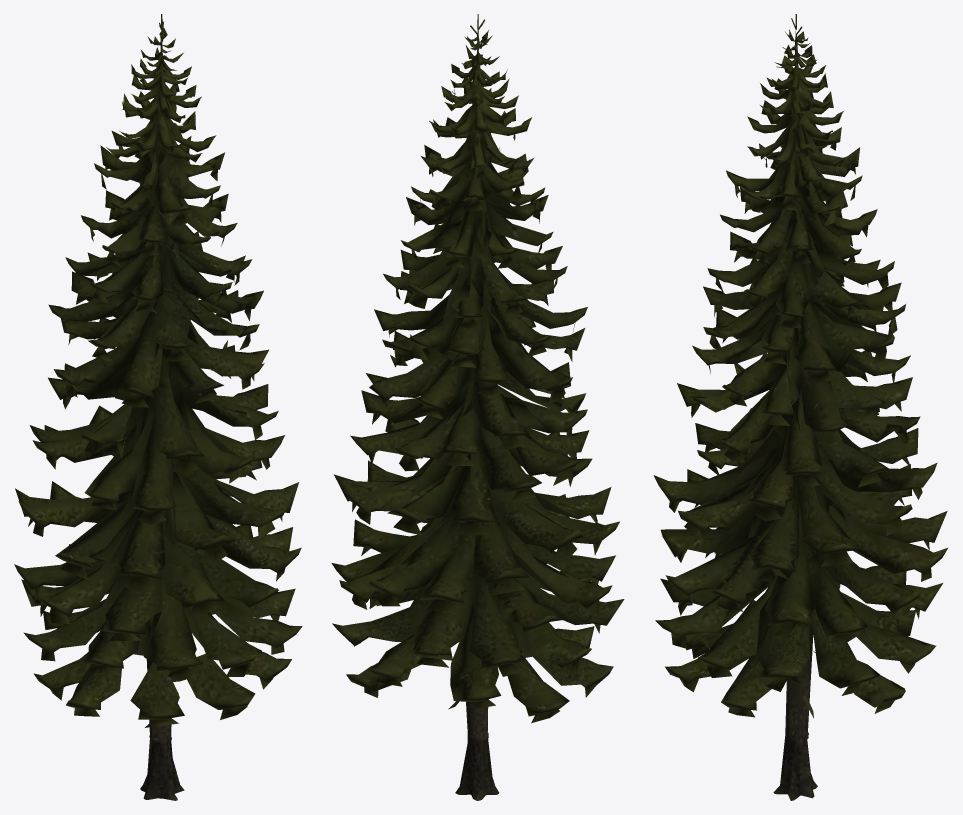
Rendered from fir.glb.
3 renders of one model, left to right at view 1: azimuth 30°, elevation 25°; view 2: azimuth 150°, elevation 25°; view 3: azimuth 270°, elevation 25°, orthographic.
Parts seen in each view (by area): view 1: tripo_node_642635f2-fe02-414a-b4fa-0cec8fd741e6; view 2: tripo_node_642635f2-fe02-414a-b4fa-0cec8fd741e6; view 3: tripo_node_642635f2-fe02-414a-b4fa-0cec8fd741e6.
Part boxes in pixels (left/top/right/bottom): tripo_node_642635f2-fe02-414a-b4fa-0cec8fd741e6: left=14, top=14, right=302, bottom=800; tripo_node_642635f2-fe02-414a-b4fa-0cec8fd741e6: left=331, top=14, right=624, bottom=800; tripo_node_642635f2-fe02-414a-b4fa-0cec8fd741e6: left=653, top=14, right=947, bottom=800.
Bounding box in the file's own units: 0.3433 × 0.9995 × 0.3442.
Materials: 1 (1 with a texture image).
